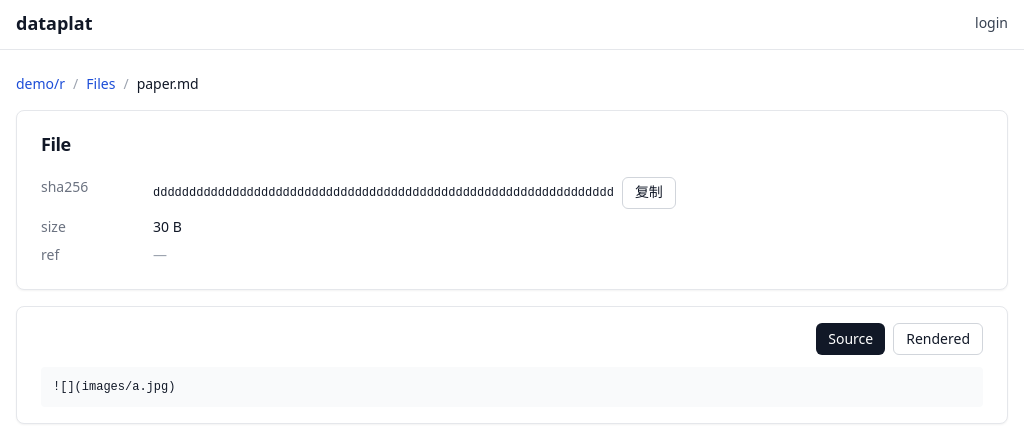
Scenario: BlobPage rendering › md image while subtree isLoading → 显占位文字
Click the button "Rendered" at (938, 339), box x1=893 y1=323 x2=983 y2=355
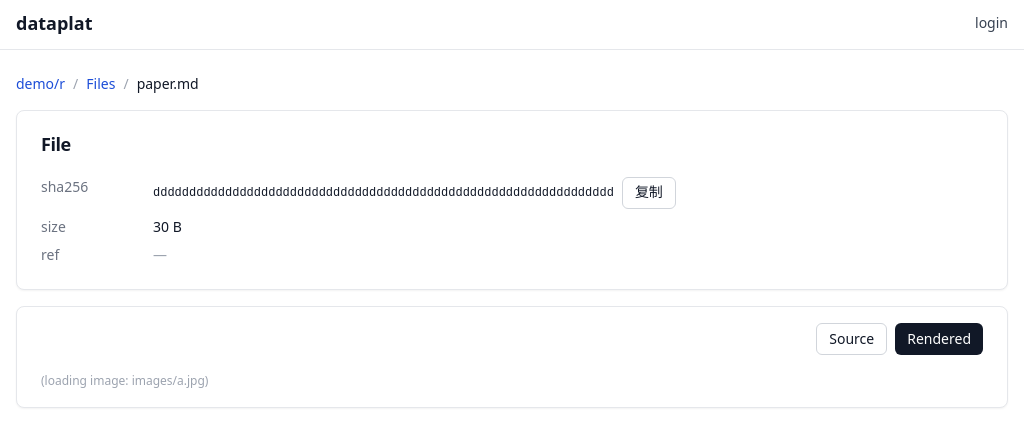
Check: the text "(loading image: images/a.jpg)" is shown, box x1=41 y1=372 x2=208 y2=389
